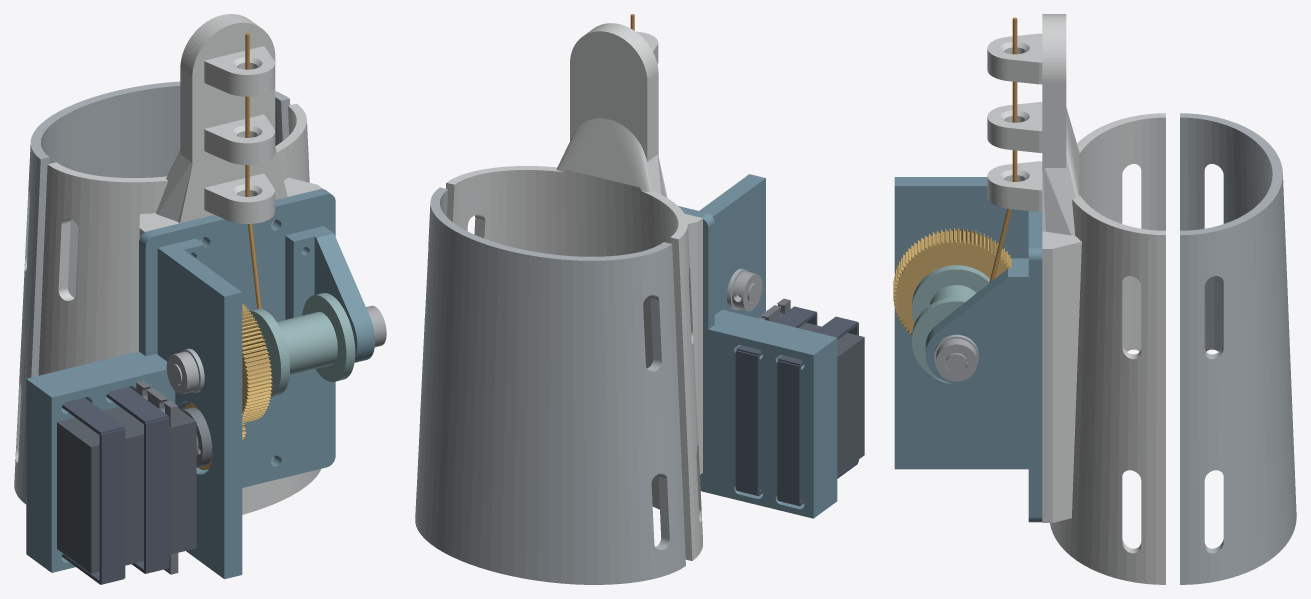
Rendered from assembly.glb.
3 views of the same model, side by side, from view 1: azimuth 30°, elevation 25°; view 2: azimuth 150°, elevation 25°; view 3: azimuth 270°, elevation 25° (orthographic). The views are drawn at different scales.
Parts seen in each view (by area): view 1: upper, plate, lower, motorwall, motor_body, spool, supportwall, belt_ref_0, belt_ref_1, driven, motor_ears, collar_left (+2 smaller); view 2: lower, upper, plate, motorwall, belt_ref_1, belt_ref_0, motor_body, collar_left; view 3: upper, lower, motorwall, supportwall, driven, plate, spool, collar_right.
Part boxes in pixels (box(x1,y1,x2,y2)): upper: box(38, 14, 322, 514); plate: box(26, 189, 335, 572); lower: box(14, 81, 290, 504); motorwall: box(157, 238, 242, 579); motor_body: box(57, 400, 196, 573); spool: box(249, 293, 355, 397); supportwall: box(285, 226, 374, 362); belt_ref_0: box(62, 397, 125, 584); belt_ref_1: box(106, 387, 169, 573); driven: box(242, 304, 272, 423); motor_ears: box(136, 380, 178, 574); collar_left: box(166, 351, 198, 394); lower: box(415, 187, 685, 584); upper: box(446, 23, 702, 560); plate: box(678, 206, 837, 518); motorwall: box(699, 174, 765, 317); belt_ref_1: box(735, 306, 817, 495); belt_ref_0: box(777, 316, 858, 506); motor_body: box(761, 316, 864, 474); collar_left: box(732, 271, 762, 311); upper: box(987, 14, 1165, 584); lower: box(1180, 113, 1296, 584); motorwall: box(894, 177, 1028, 469); supportwall: box(925, 258, 1028, 407); driven: box(893, 228, 1011, 336); plate: box(1028, 211, 1042, 522); spool: box(912, 265, 990, 380); collar_right: box(936, 338, 976, 381).
Bounding box in the file's own units: 117 × 160 × 117.
